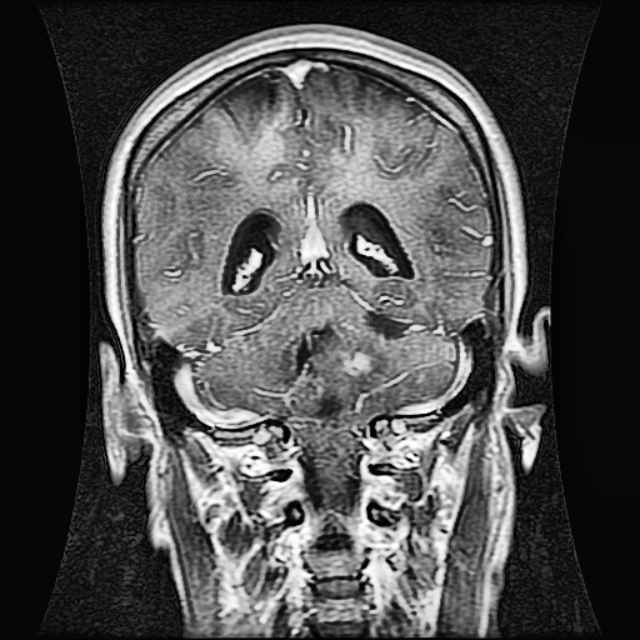Meningioma: (339, 340, 393, 384)
